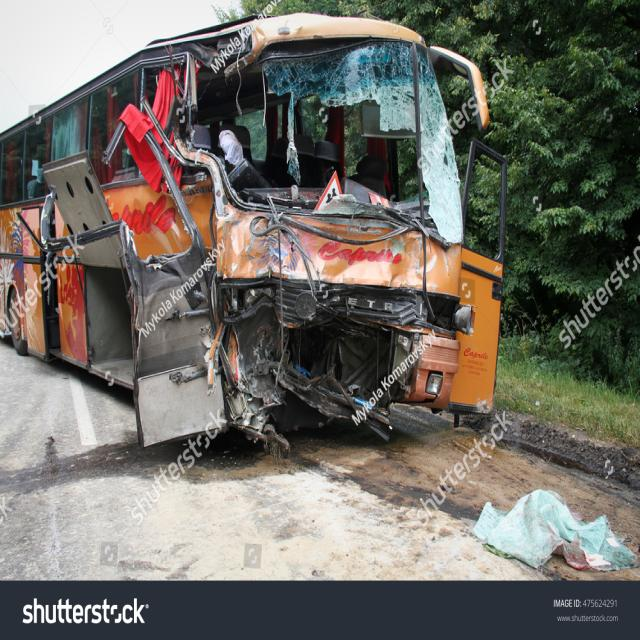Accident: (0, 0, 502, 473)
